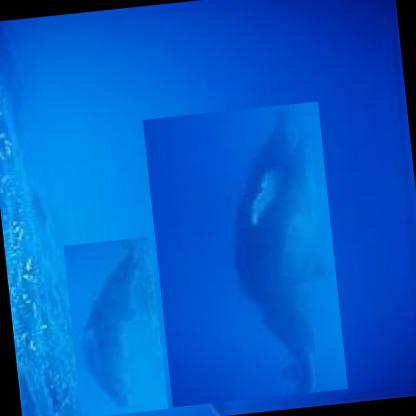blue_whale: (141, 100, 348, 407), (62, 235, 169, 415)
